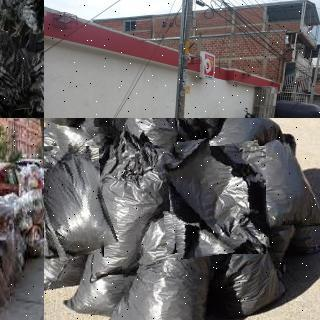Garbage: (167, 143, 270, 257), (93, 143, 176, 275), (119, 209, 213, 320), (240, 133, 320, 231), (44, 142, 110, 258), (107, 118, 208, 168), (0, 9, 36, 110), (0, 48, 44, 118), (0, 0, 44, 35)
